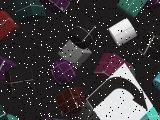Right: (86, 63, 154, 120)
